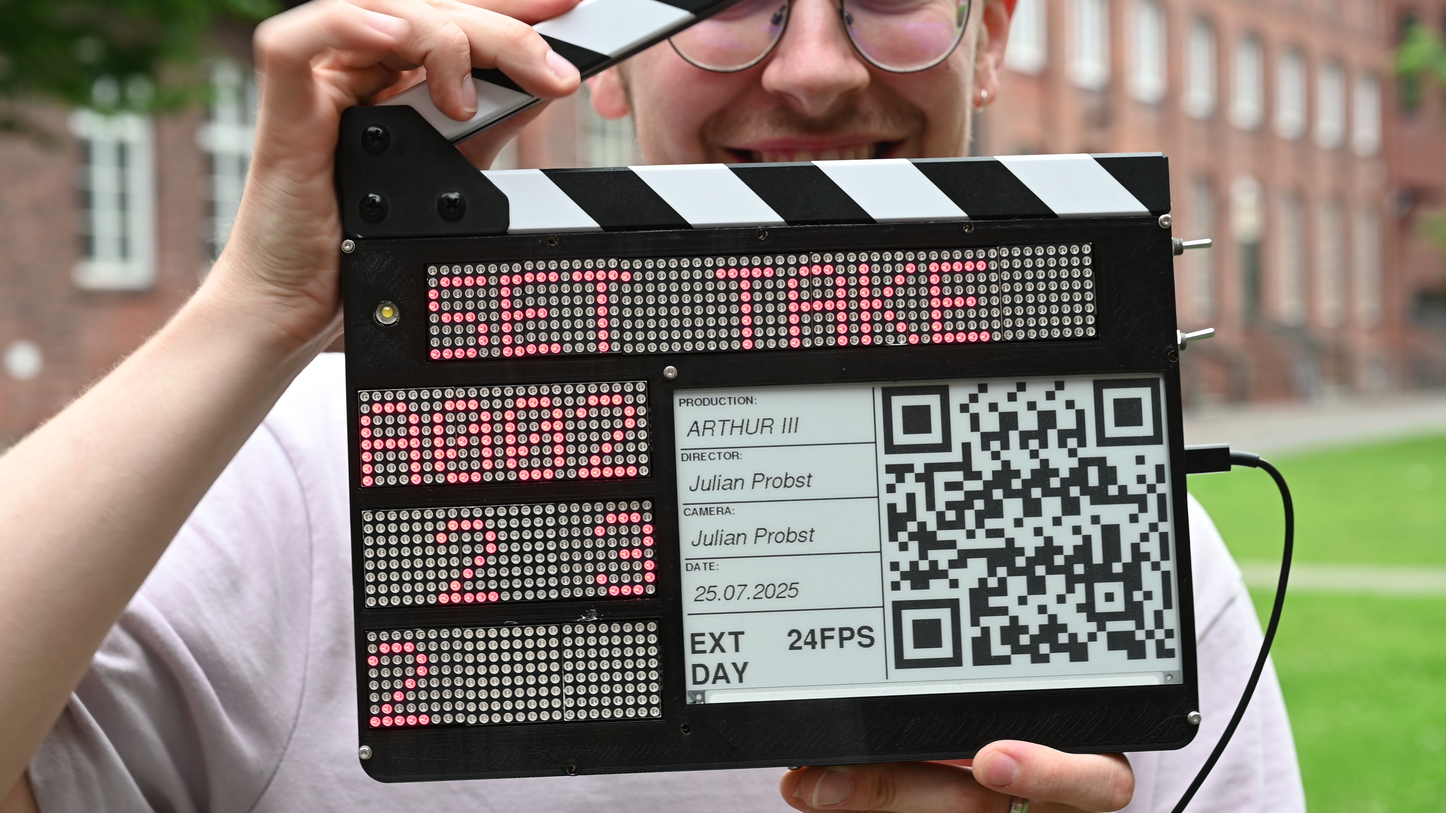ARC-SLATE: (334, 154, 1201, 788)
